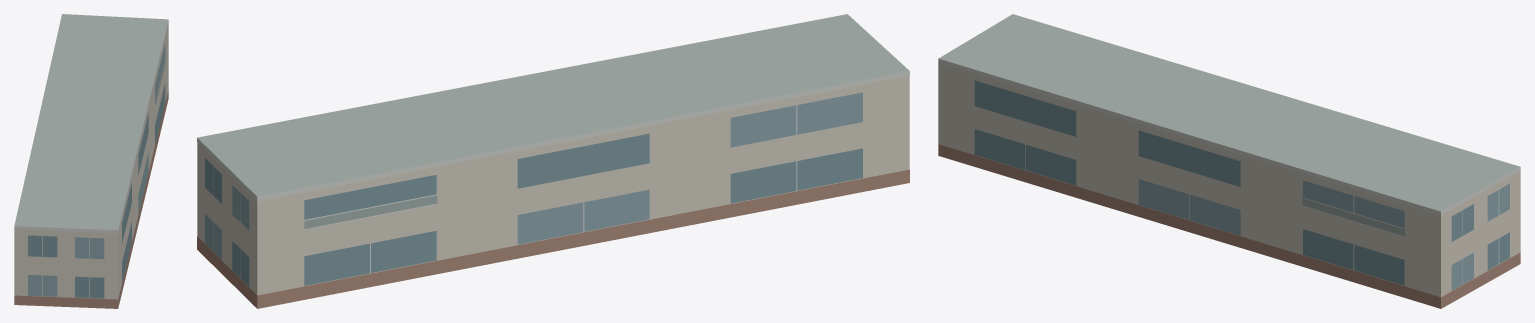
File: survey-upis-33039432.glb
3 views of the same model, side by side, from view 1: azimuth 30°, elevation 25°; view 2: azimuth 150°, elevation 25°; view 3: azimuth 270°, elevation 25° (orthographic). The views are drawn at different scales.
Visible parts, largest first — view 1: survey-upis-33039432.tmp; view 2: survey-upis-33039432.tmp; view 3: survey-upis-33039432.tmp.
Part boxes in pixels (box(x1,y1,x2,y2)): survey-upis-33039432.tmp: box(14, 14, 168, 308); survey-upis-33039432.tmp: box(197, 14, 909, 308); survey-upis-33039432.tmp: box(938, 14, 1520, 308).
Size of the model in its own units: 26.59 by 6.1 by 33.09.
